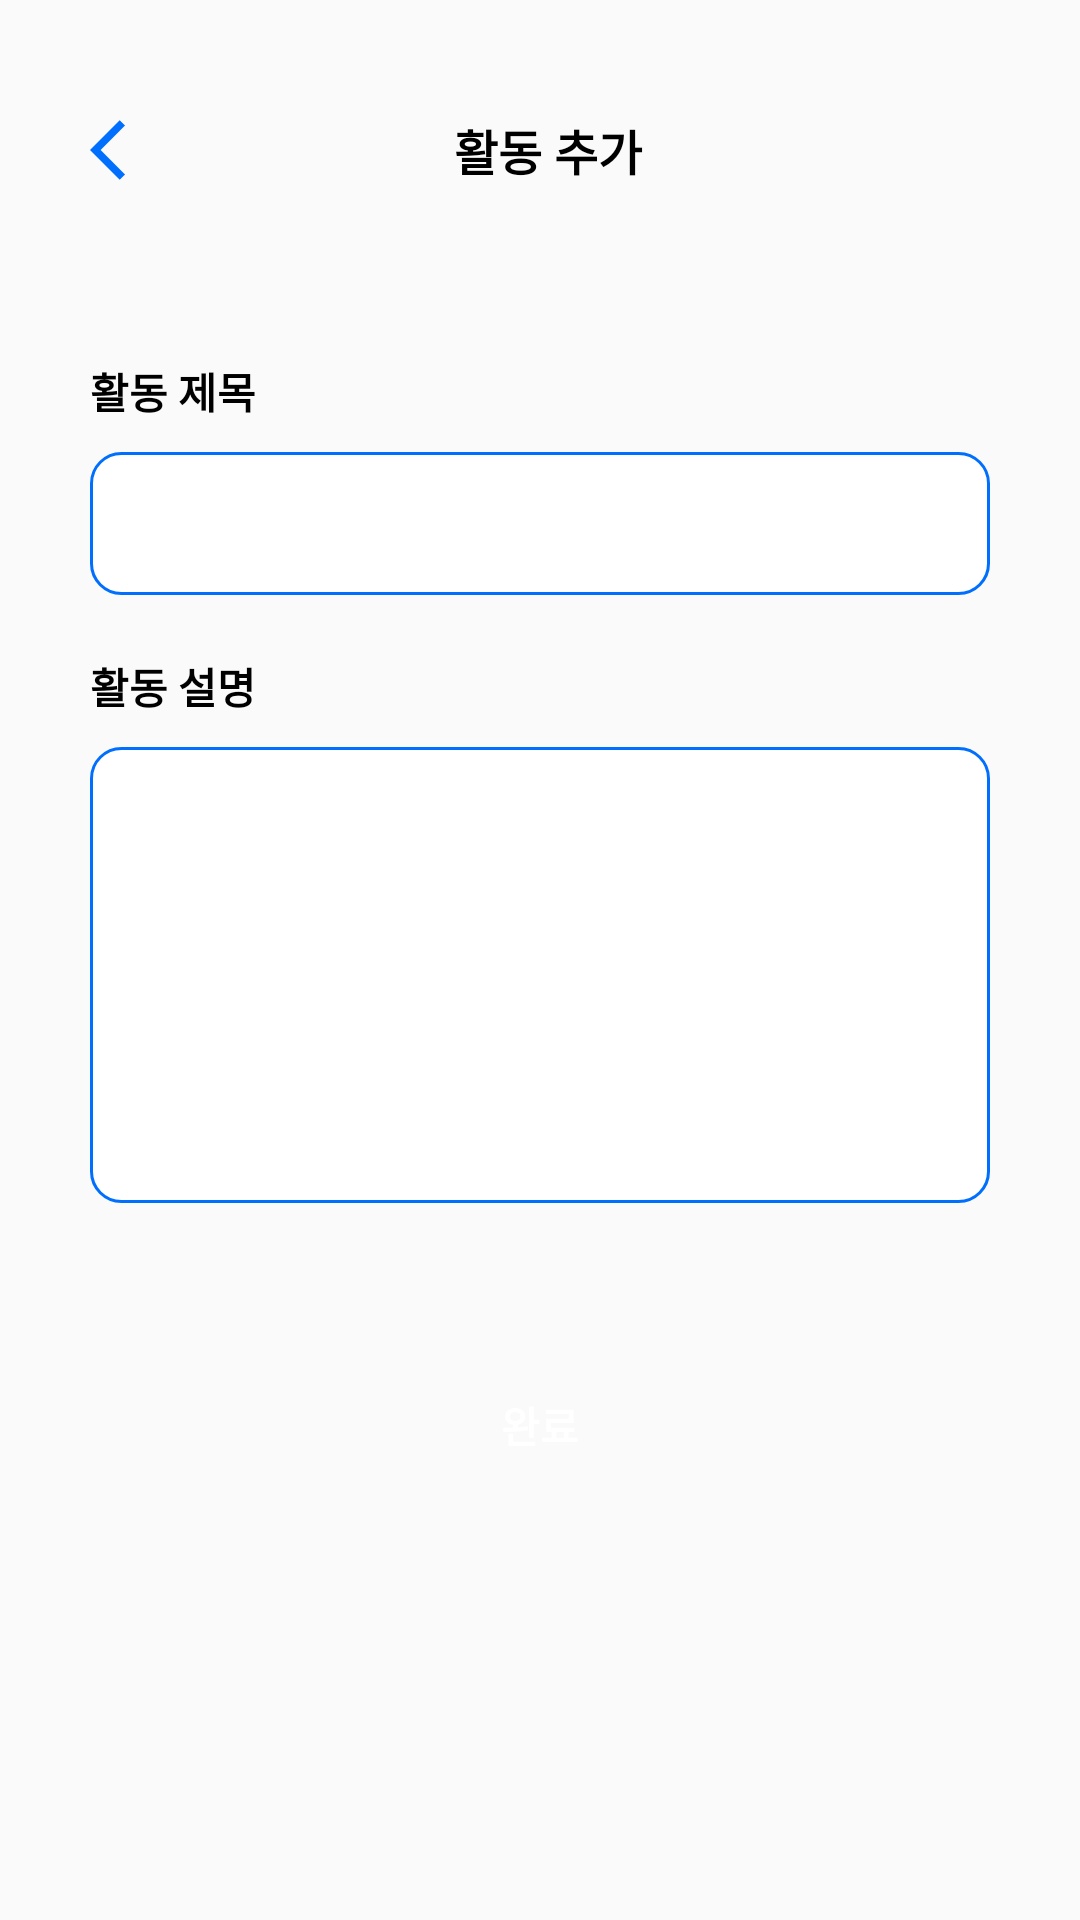

Where to tap for icons on this 1080×1920 app screen, as (x,y):
arrow back: (107,150)
